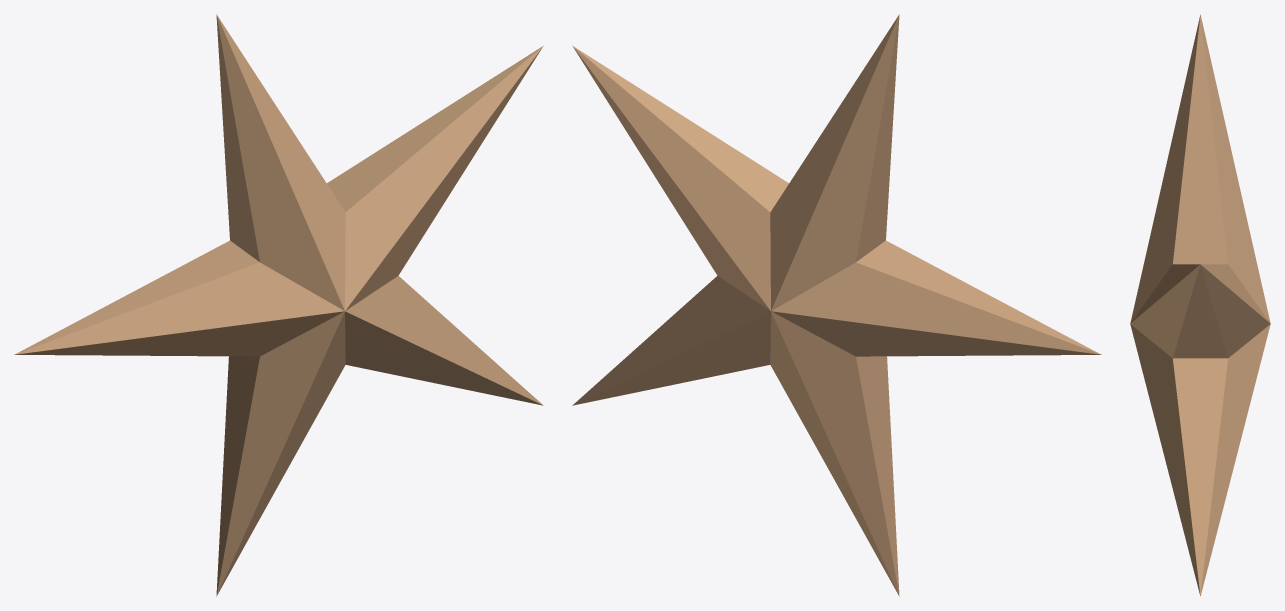
Rendered from starfish.glb.
3 views of the same model, side by side, from view 1: azimuth 30°, elevation 25°; view 2: azimuth 150°, elevation 25°; view 3: azimuth 270°, elevation 25° (orthographic). The views are drawn at different scales.
Parts seen in each view (by area): view 1: world; view 2: world; view 3: world.
Part boxes in pixels (x1,y1,x2,y2): world: (14,14,543,596); world: (572,14,1101,596); world: (1130,14,1270,596).
Bounding box in the file's own units: 1.45 × 1.52 × 0.36.
